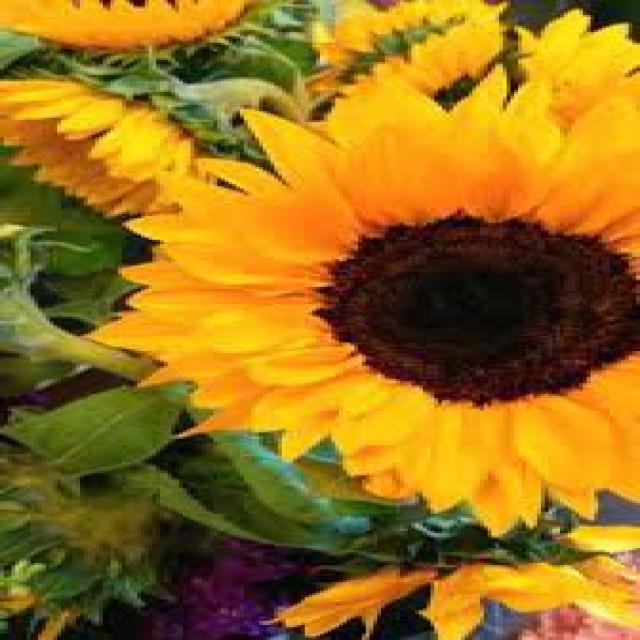sunflower: (80, 62, 636, 535), (263, 529, 640, 640), (8, 76, 216, 212), (298, 0, 493, 89), (340, 13, 517, 109), (0, 0, 255, 54), (513, 4, 640, 75)
